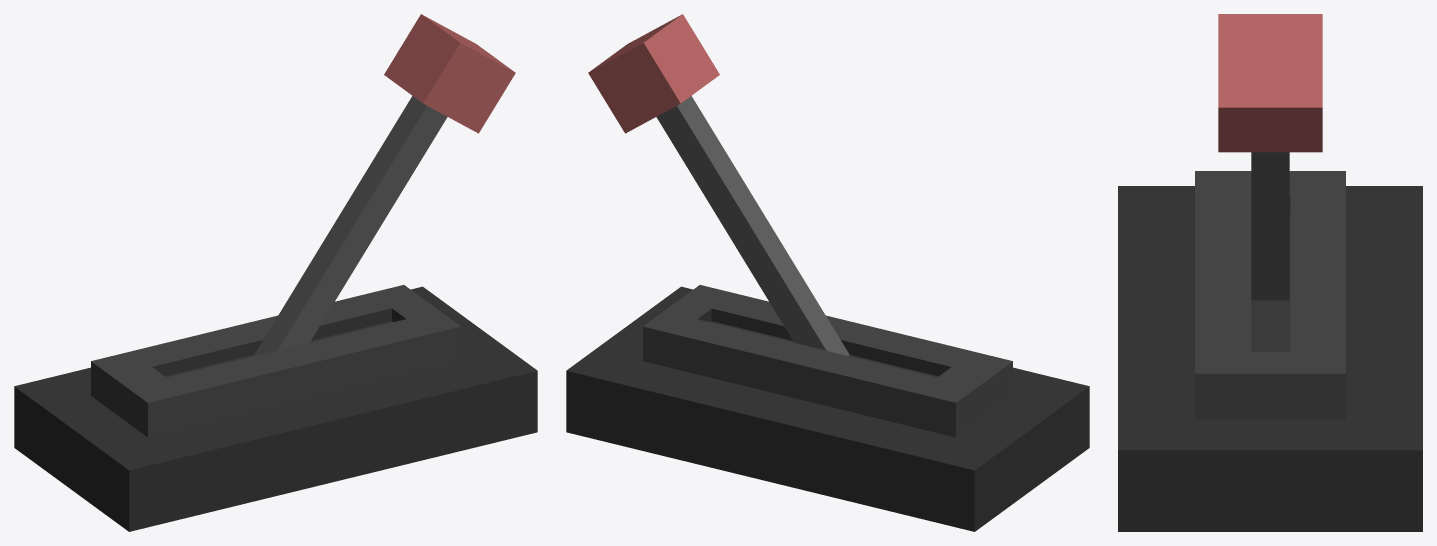
Rendered from lever right.fbx.
3 views of the same model, side by side, from view 1: azimuth 30°, elevation 25°; view 2: azimuth 150°, elevation 25°; view 3: azimuth 270°, elevation 25° (orthographic). The views are drawn at different scales.
Parts seen in each view (by area): view 1: pCube8, polySurface4; view 2: pCube8, polySurface4; view 3: pCube8, polySurface4.
Boxes of the visible parts, bbox=[...] form: pCube8: bbox=[14, 285, 537, 531]; polySurface4: bbox=[254, 14, 515, 355]; pCube8: bbox=[566, 285, 1089, 531]; polySurface4: bbox=[588, 14, 849, 355]; pCube8: bbox=[1118, 171, 1422, 531]; polySurface4: bbox=[1218, 14, 1322, 300].
Bounding box in the file's own units: 1.79 × 1.49 × 0.8379.
